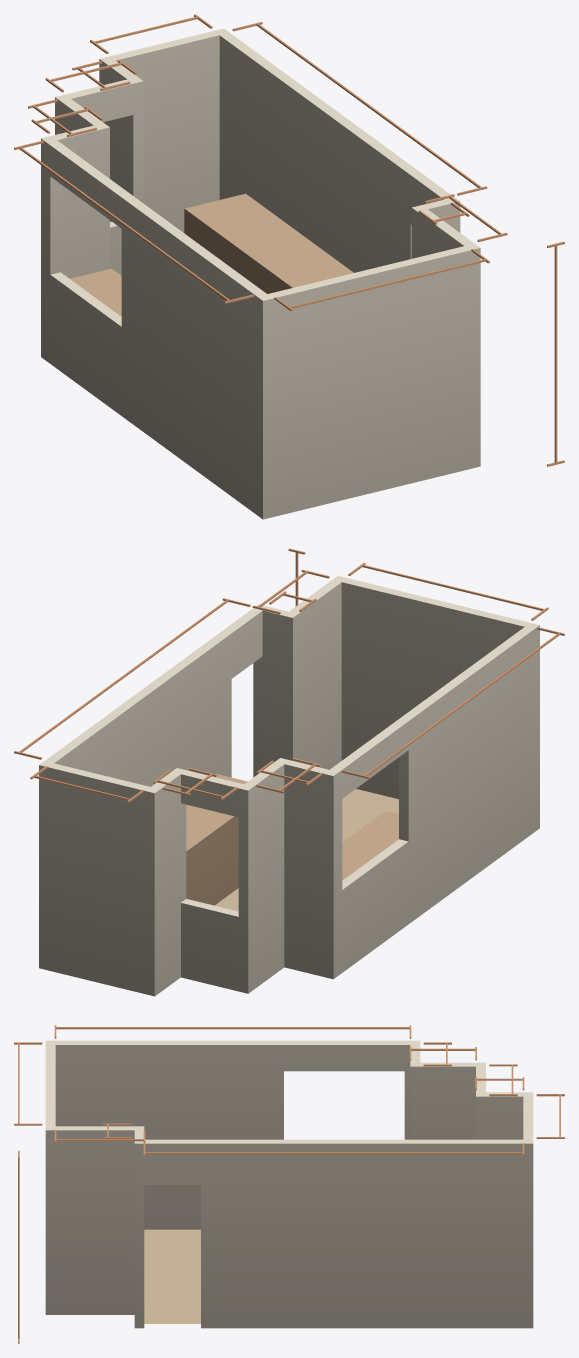
The model's file is room-kitchen.glb.
The picture shows the model from 3 angles, top to bottom: view 1: azimuth 30°, elevation 25°; view 2: azimuth 150°, elevation 25°; view 3: azimuth 270°, elevation 25°; orthographic projection. The views are drawn at different scales.
Parts seen in each view (by area): view 1: kitchen; view 2: kitchen; view 3: kitchen.
Boxes of the visible parts, <box> form: kitchen: <box>14,14,564,519</box>; kitchen: <box>14,548,564,996</box>; kitchen: <box>14,1025,564,1343</box>.
Size of the model in its own units: 3.73 by 2.49 by 6.63.
